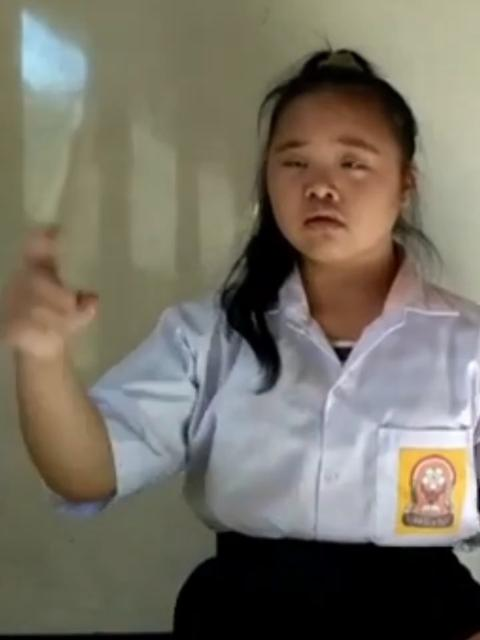X: (0, 222, 112, 362)
